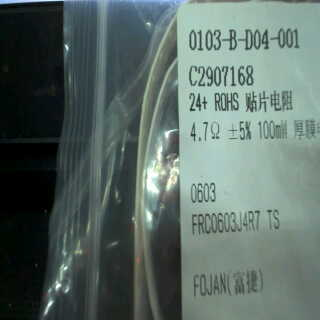4.7R: (186, 118, 224, 145)
